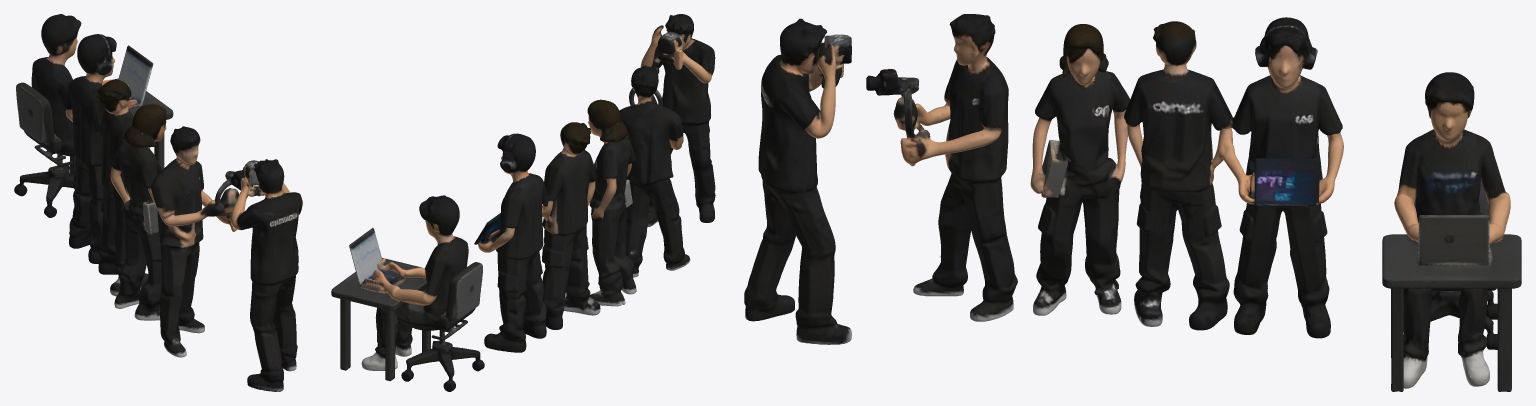
The model's file is team.glb.
The picture shows the model from 3 angles, left to right: view 1: azimuth 30°, elevation 25°; view 2: azimuth 150°, elevation 25°; view 3: azimuth 270°, elevation 25°; orthographic projection. The views are drawn at different scales.
Visible parts, largest first — view 1: tripo_node_fdcc6ef1-0bd1-4ab9-8b44-b98adf423d61; view 2: tripo_node_fdcc6ef1-0bd1-4ab9-8b44-b98adf423d61; view 3: tripo_node_fdcc6ef1-0bd1-4ab9-8b44-b98adf423d61.
Boxes of the visible parts, x1,y1,x2,y2 form: tripo_node_fdcc6ef1-0bd1-4ab9-8b44-b98adf423d61: (14,14,302,391); tripo_node_fdcc6ef1-0bd1-4ab9-8b44-b98adf423d61: (331,14,715,391); tripo_node_fdcc6ef1-0bd1-4ab9-8b44-b98adf423d61: (744,14,1521,391).
Bounding box in the file's own units: 0.3573 × 0.4294 × 1.
Materials: 1 (1 with a texture image).
